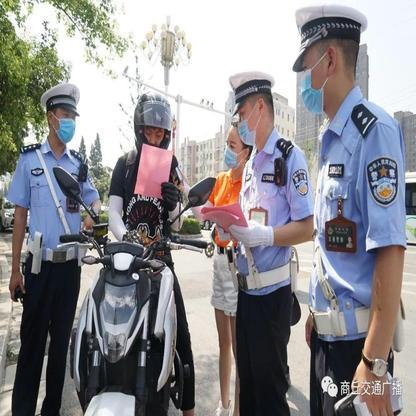target: (50, 90, 217, 410)
